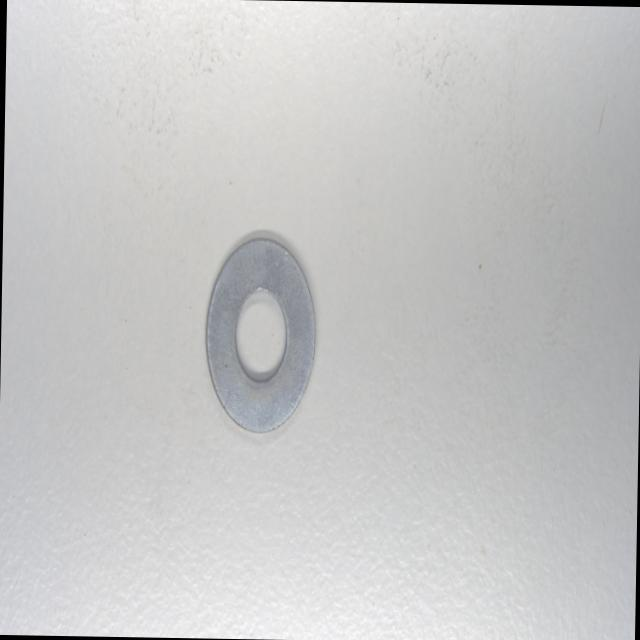washer: (202, 232, 318, 437)
